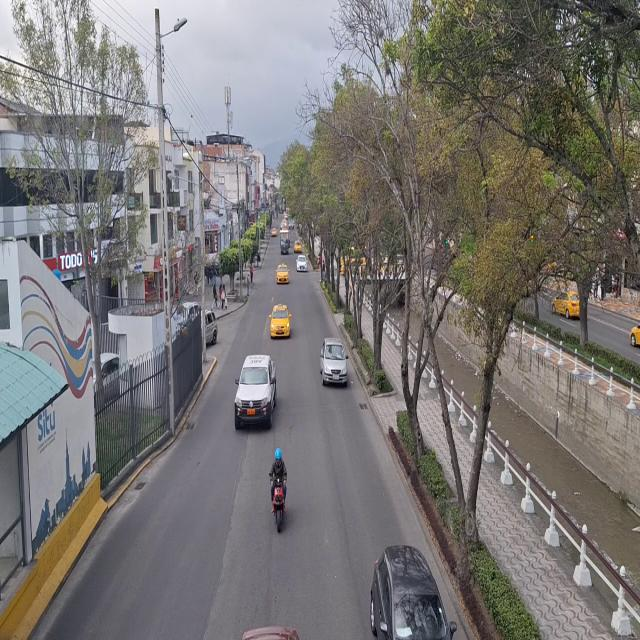CMT: (234, 357, 277, 426)
MOTORCYCLE: (272, 482, 284, 534)
SED: (277, 266, 289, 285)
